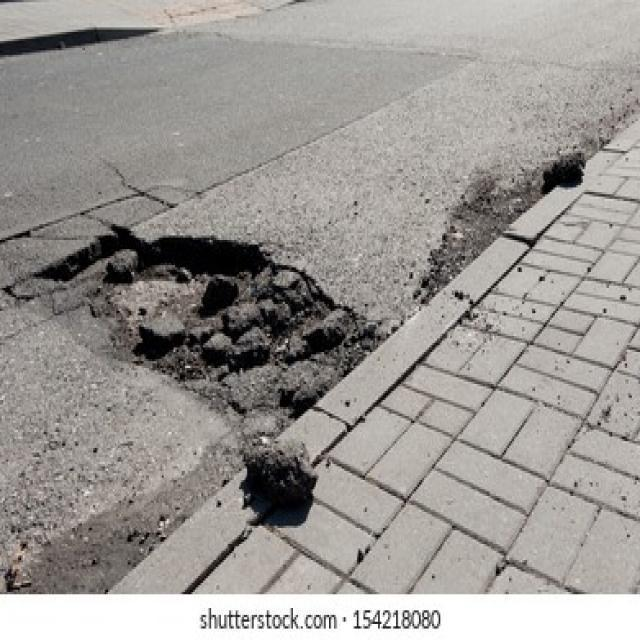Buraco: (23, 222, 391, 425)
